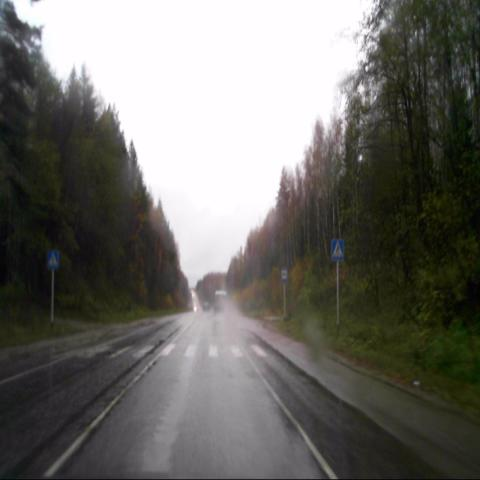5_16: (281, 268, 288, 284)
5_19_1: (330, 237, 344, 262), (47, 250, 59, 270)
